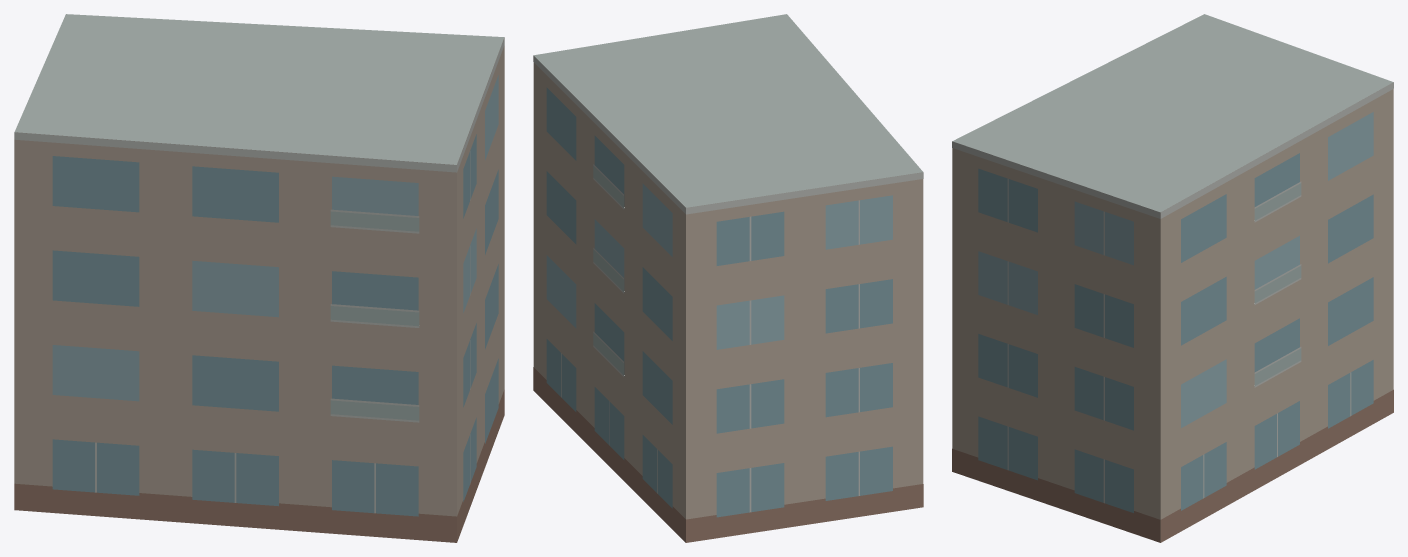
File: survey-upis-32893612.glb
The picture shows the model from 3 angles, left to right: view 1: azimuth 30°, elevation 25°; view 2: azimuth 150°, elevation 25°; view 3: azimuth 270°, elevation 25°; orthographic projection. The views are drawn at different scales.
Visible parts, largest first — view 1: survey-upis-32893612.tmp; view 2: survey-upis-32893612.tmp; view 3: survey-upis-32893612.tmp.
Part boxes in pixels (<box>): survey-upis-32893612.tmp: <box>14,14,504,542</box>; survey-upis-32893612.tmp: <box>533,14,923,542</box>; survey-upis-32893612.tmp: <box>952,14,1393,542</box>.
Bounding box in the file's own units: 15.72 × 12.2 × 14.78.
